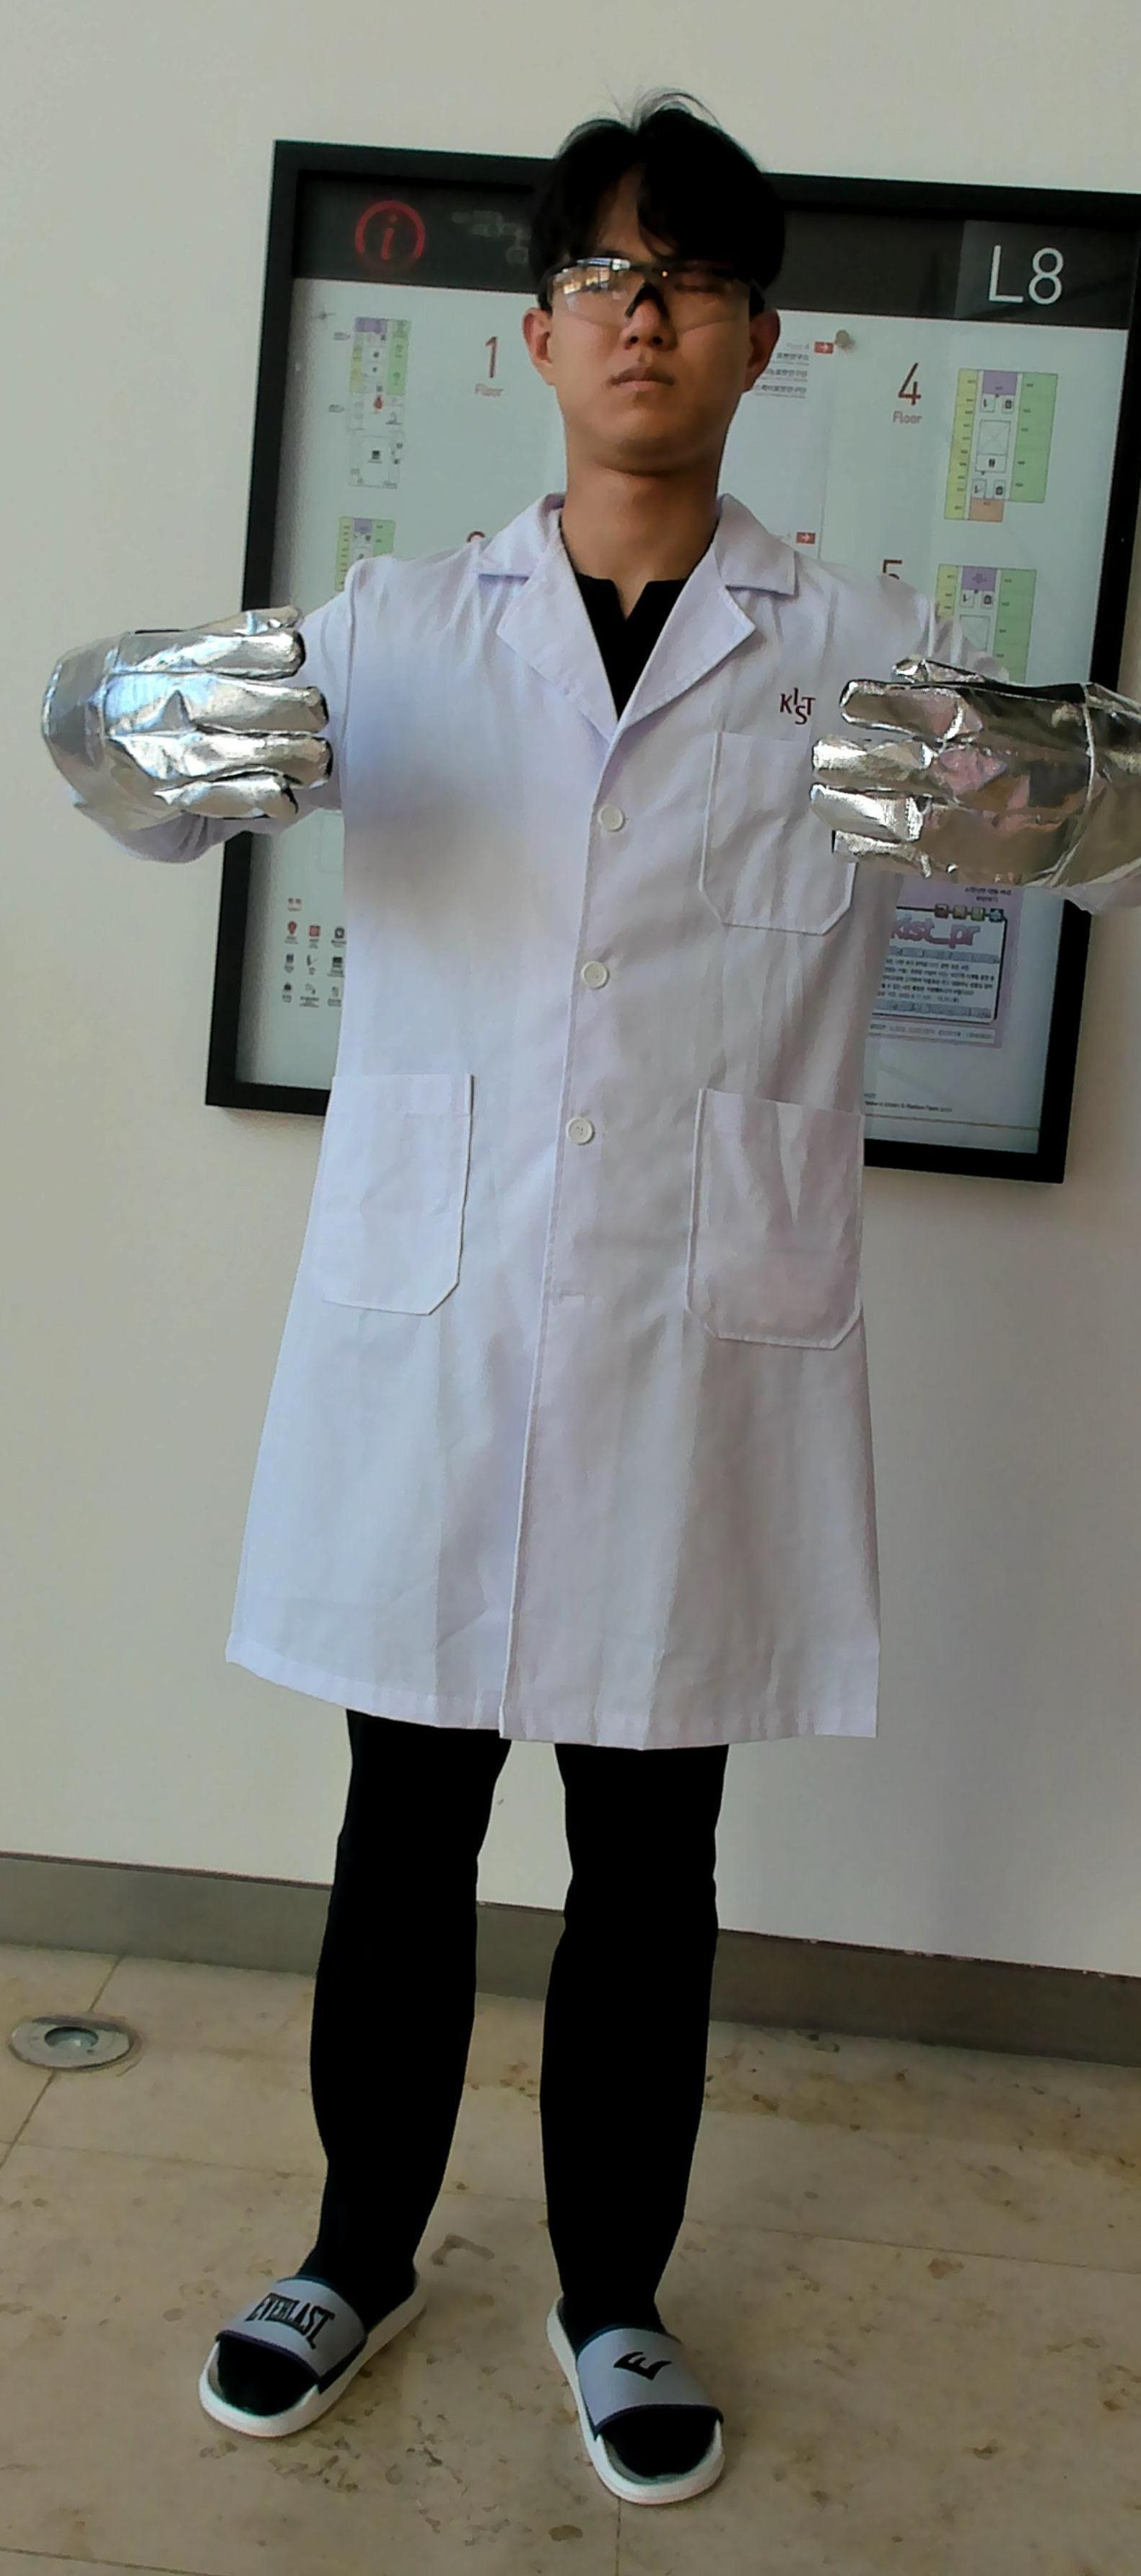lab_coat: (284, 578, 824, 1717)
